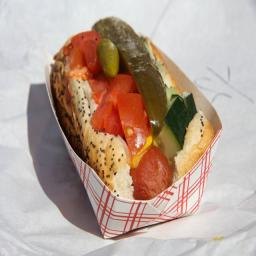hotdog: (49, 20, 213, 198)
